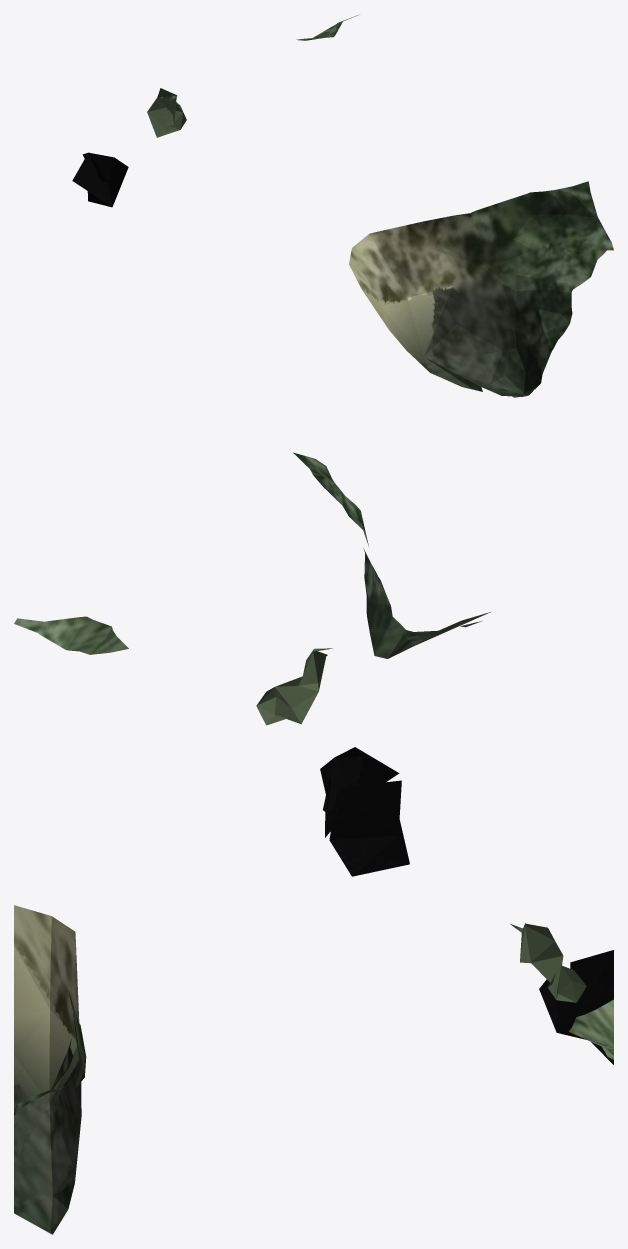
3 renders of one model, top to bottom at view 1: azimuth 30°, elevation 25°; view 2: azimuth 150°, elevation 25°; view 3: azimuth 270°, elevation 25°, orthographic. The views are drawn at different scales.
Size of the model in its own units: 4.58 by 2.4 by 5.9.
1 material, 1 textured.
